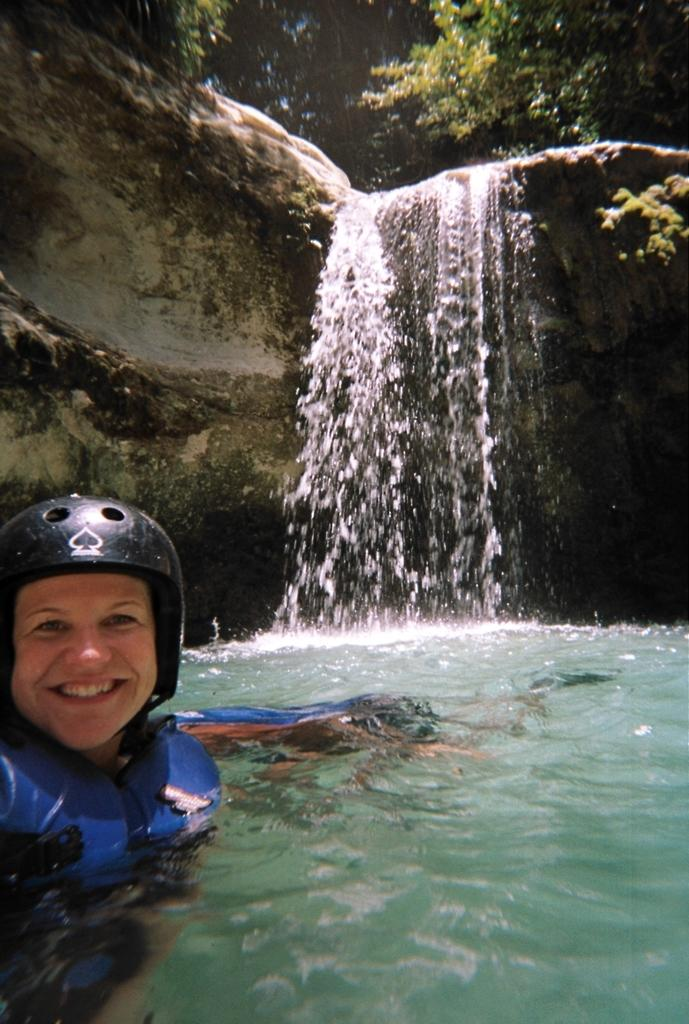helmet: (0, 495, 187, 748)
